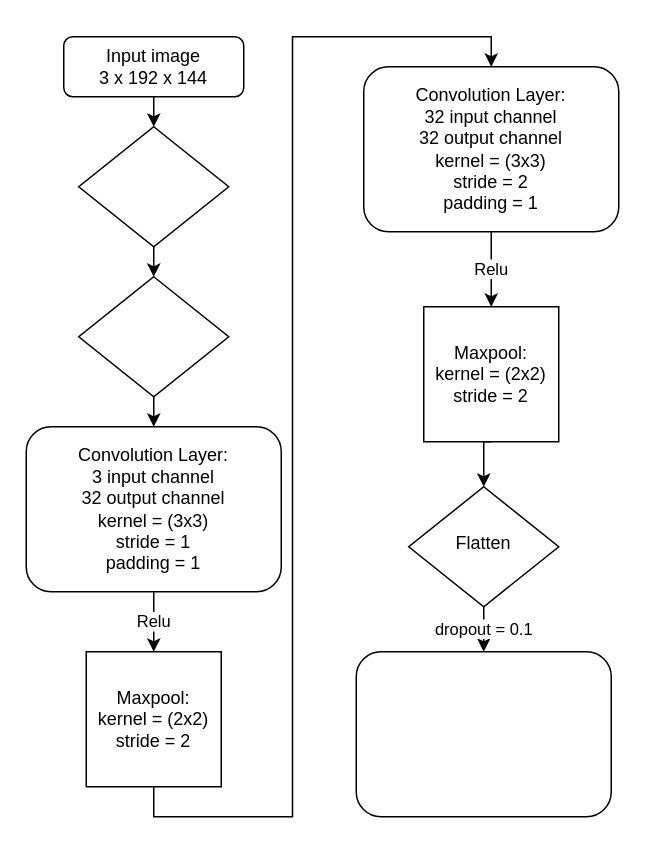
The diagram is 645 pixels wide and 855 high, and some of its shapes have lost their labels. Each missing label, with the centre of its shape:
Linear Layer: 10368 input vector 3 output vector: (483,733)
normalize: (153,336)
Resized to 144x144: (153,186)
